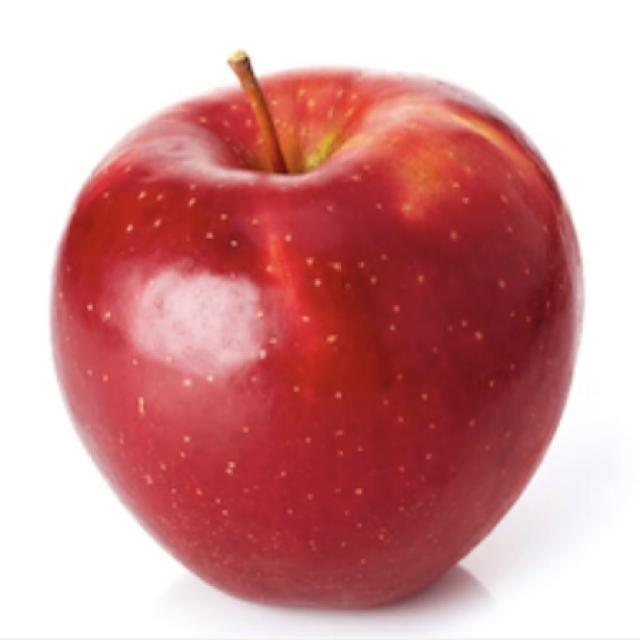Fresh Apple: (68, 83, 610, 640)
